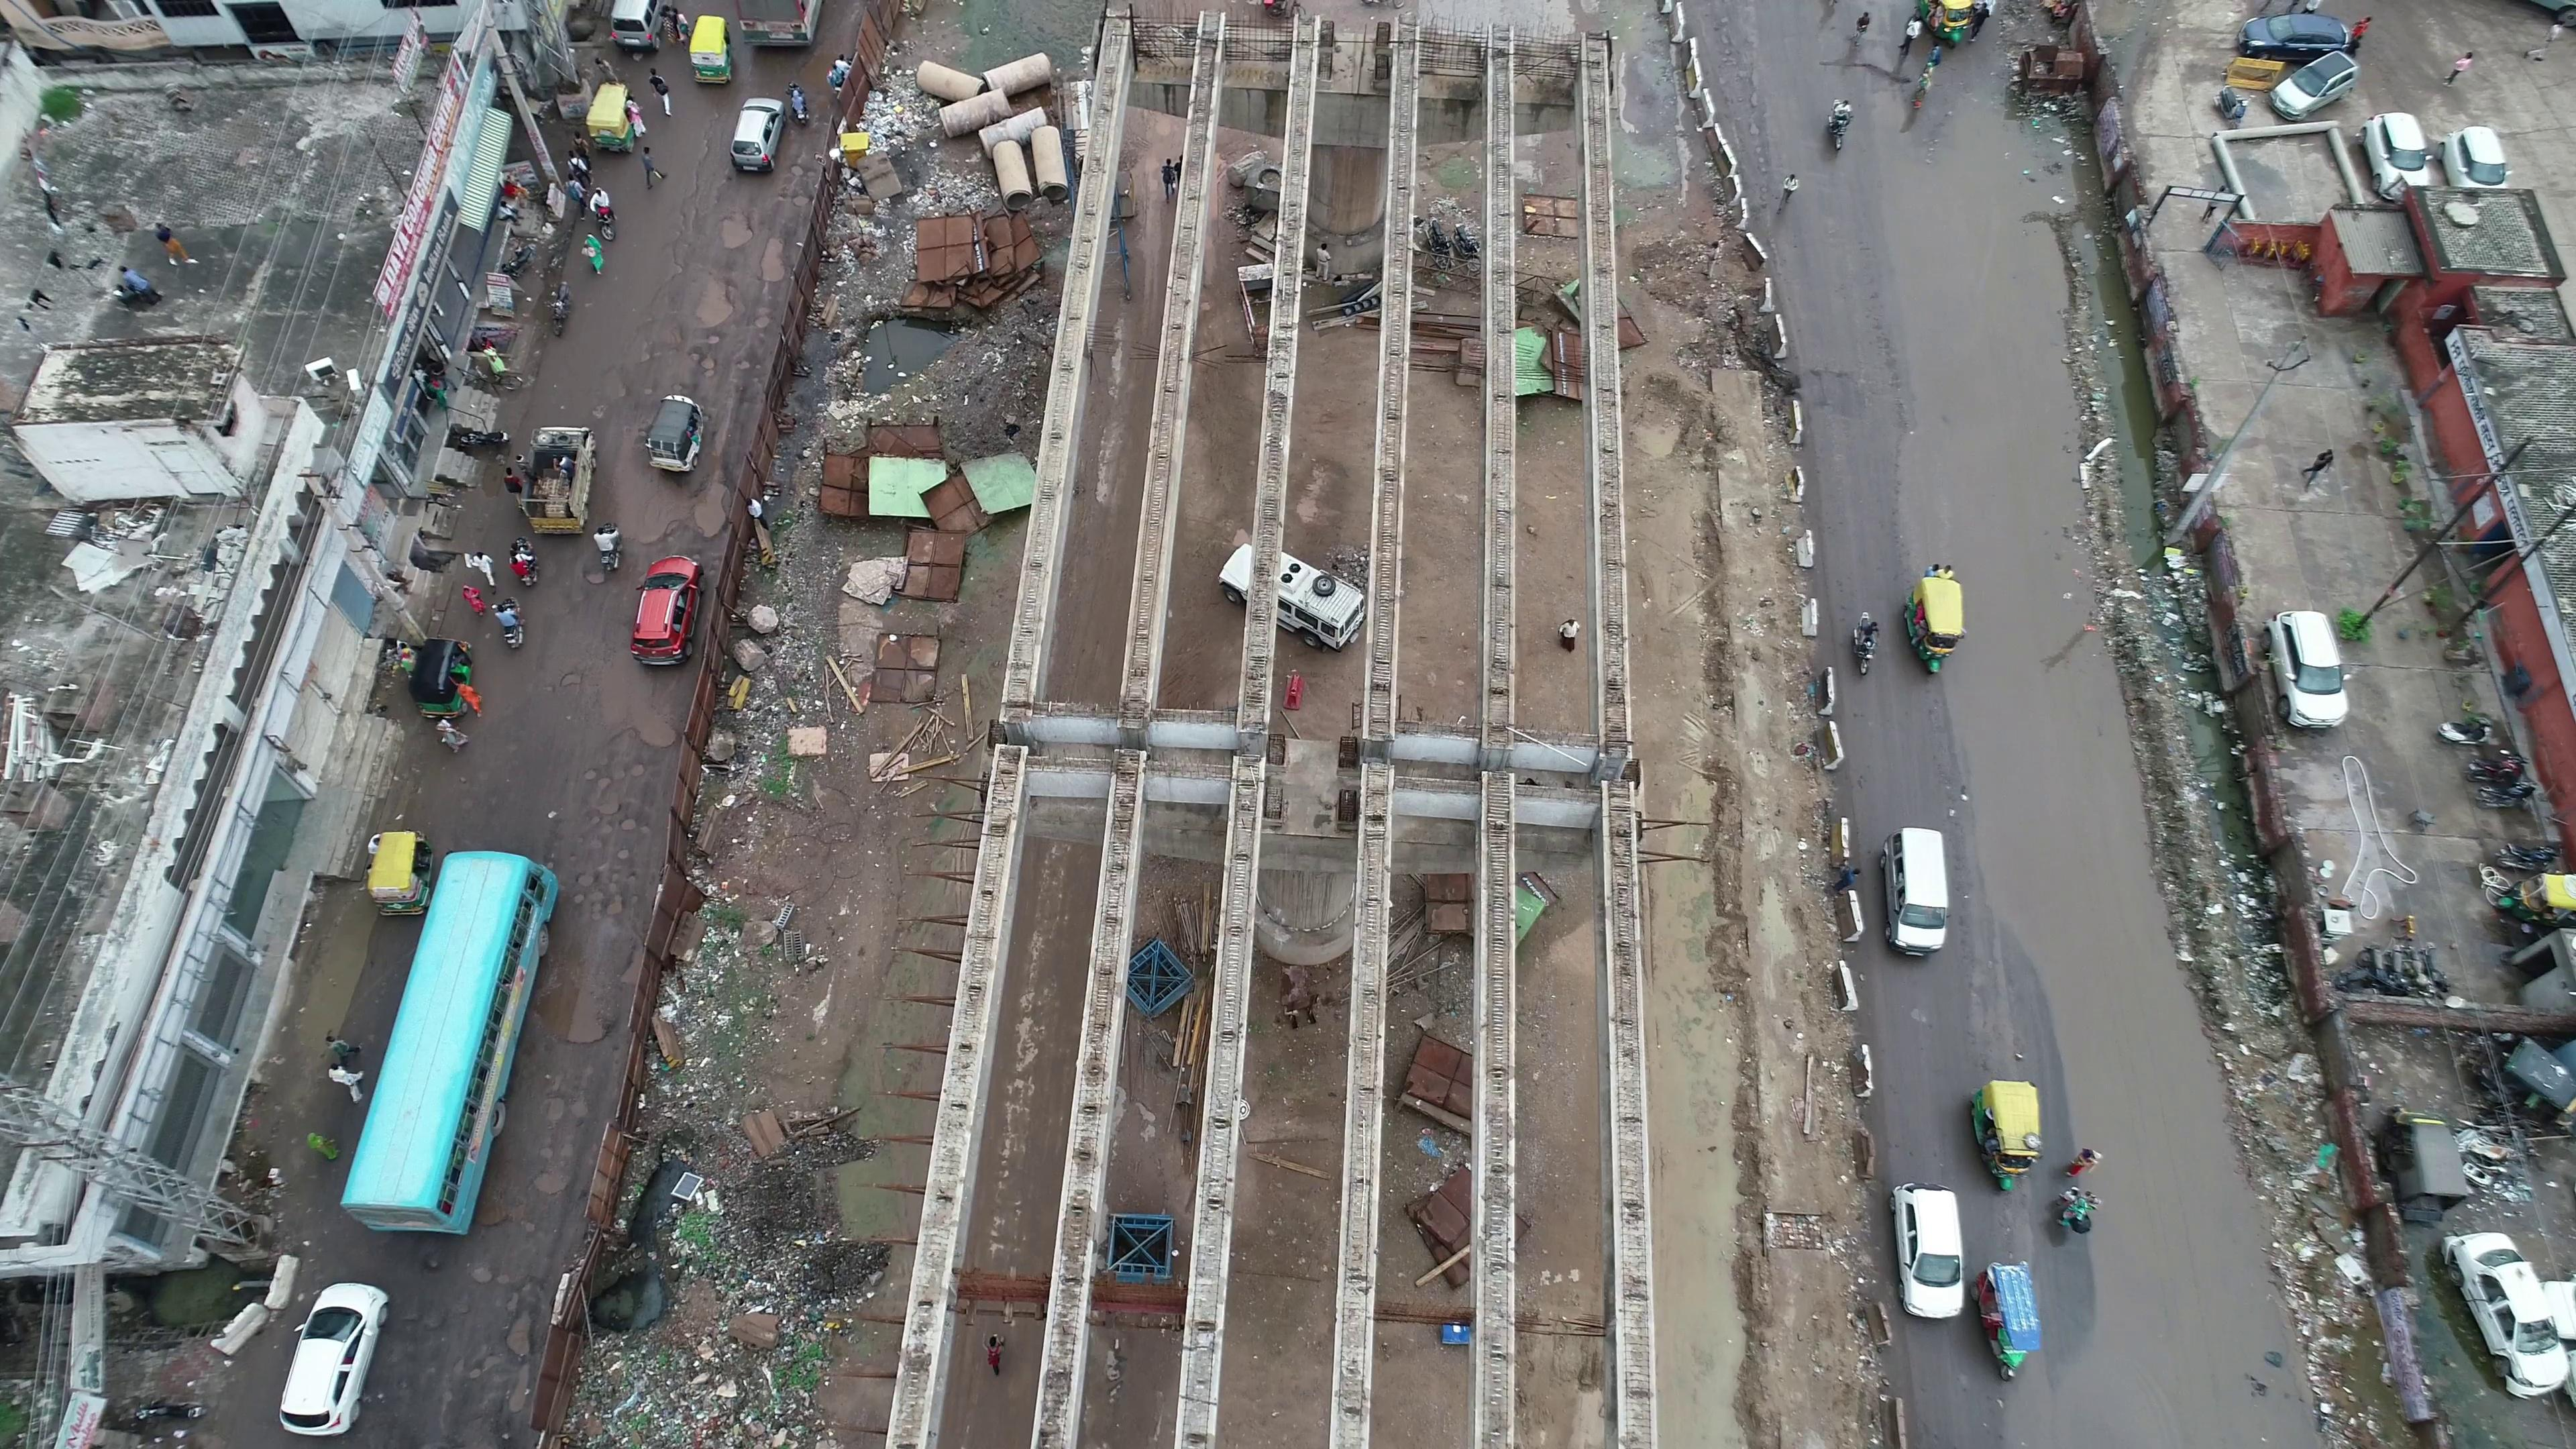Potholes: (628, 202, 771, 377), (552, 729, 656, 913), (515, 1074, 600, 1196), (1713, 21, 1775, 179)
Waterlogging: (1891, 156, 2088, 545), (1955, 663, 2171, 982)
